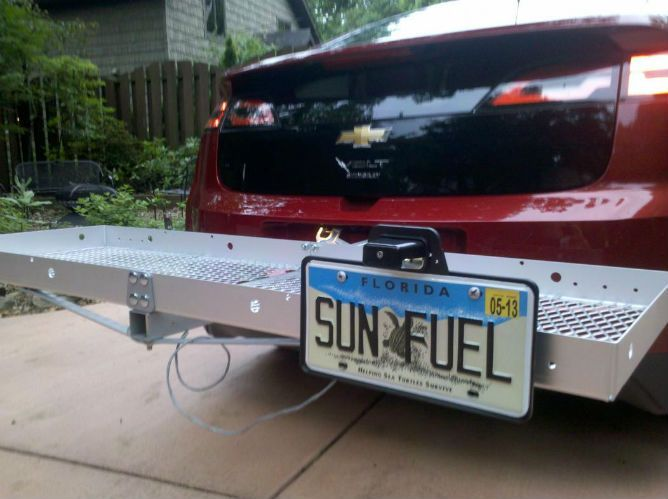license plate: (298, 255, 543, 427)
